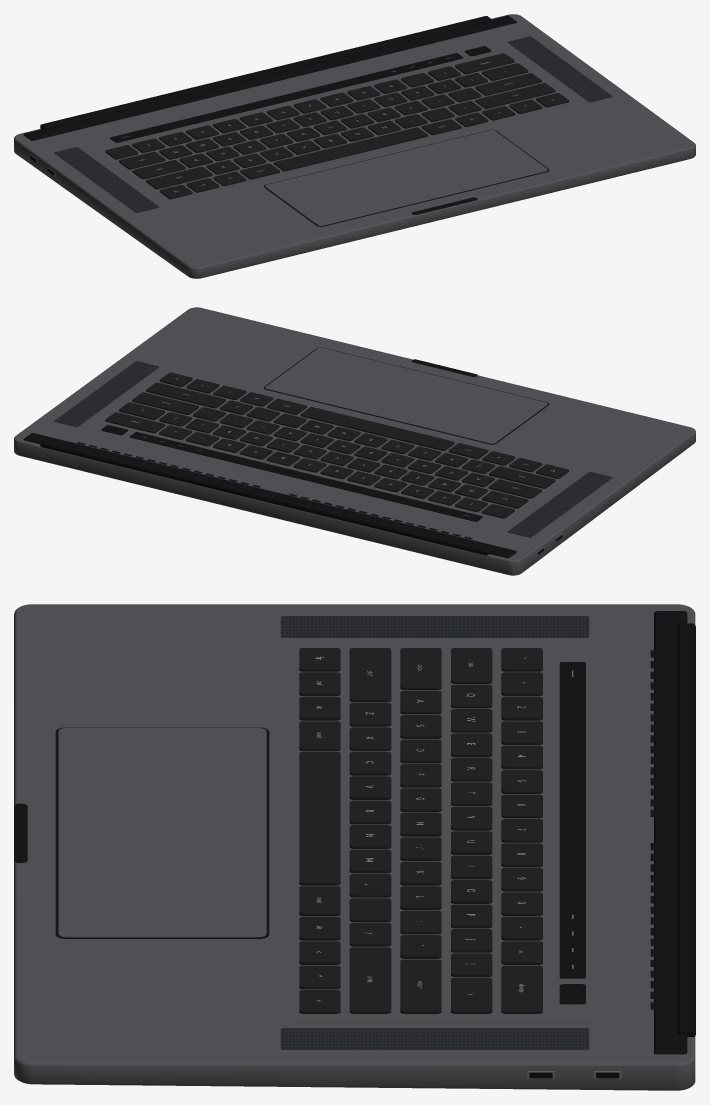
Rendered from laptop-base.glb.
3 views of the same model, one above another, from view 1: azimuth 30°, elevation 25°; view 2: azimuth 150°, elevation 25°; view 3: azimuth 270°, elevation 25° (orthographic). The views are drawn at different scales.
Parts seen in each view (by area): view 1: DC156_Continuous_chassis.003; view 2: DC156_Continuous_chassis.003; view 3: DC156_Continuous_chassis.003.
Part boxes in pixels (bbox=[...]): DC156_Continuous_chassis.003: bbox=[14, 14, 695, 278]; DC156_Continuous_chassis.003: bbox=[14, 307, 695, 575]; DC156_Continuous_chassis.003: bbox=[14, 604, 695, 1090].
Bounding box in the file's own units: 3.61 × 0.142 × 2.25.
Materials: 6 (2 with a texture image).
